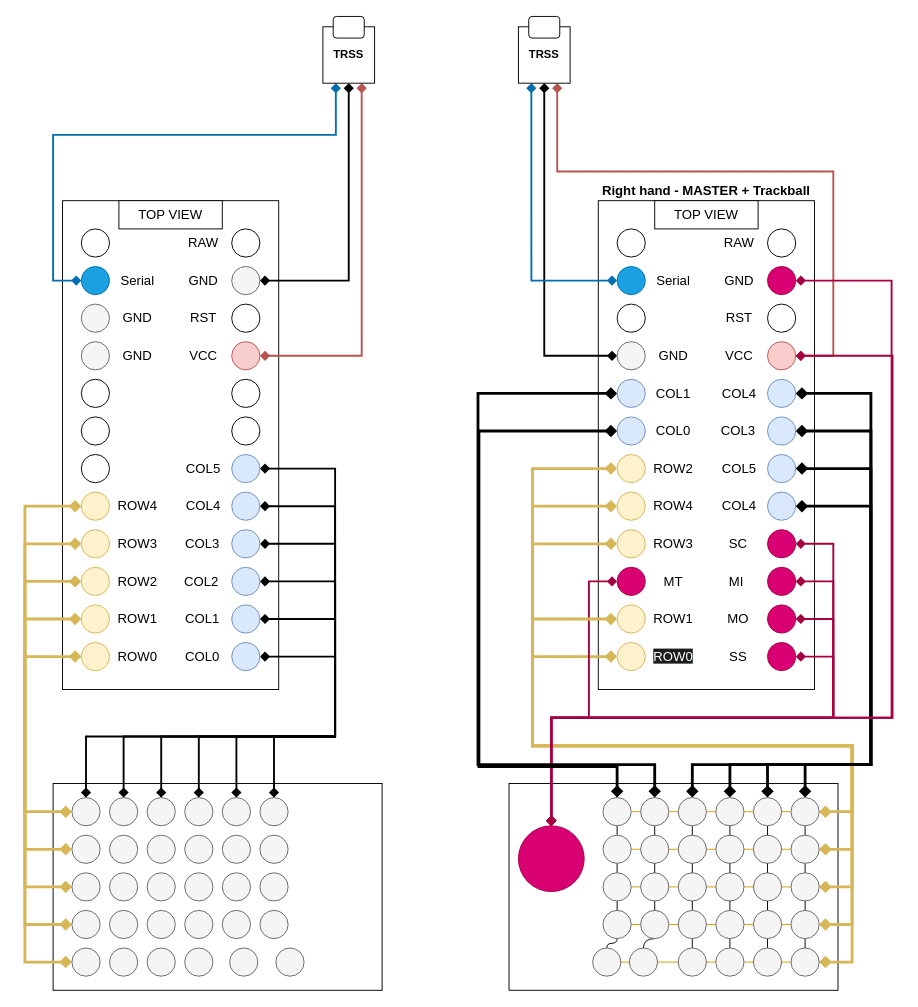
Some shapes in this 918 by 1007 pixel diagram are drawn without their labels. The shapes that lost their labels are listed below. From the top down, each one's box as (x1, y1, x2, y2) in pixels, then its label:
(62, 200, 279, 689): Left hand
(517, 825, 584, 892): PMW3360
